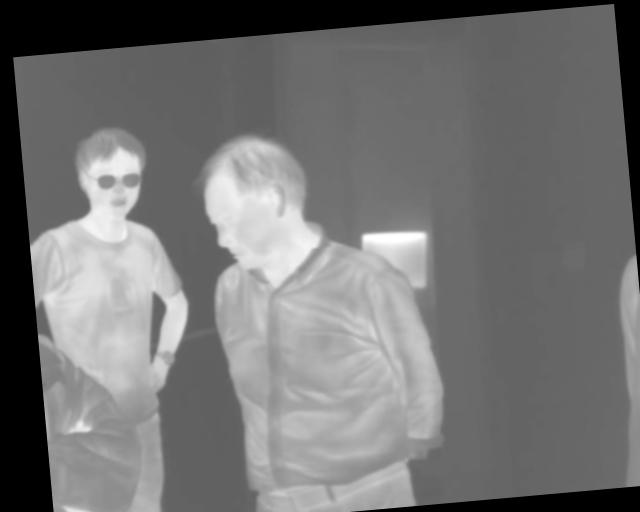face: (191, 128, 314, 274), (70, 123, 153, 220)
